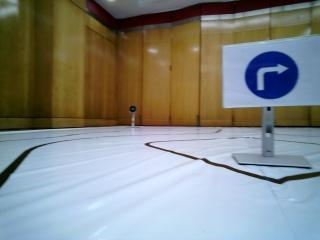right: (230, 50, 315, 103)
